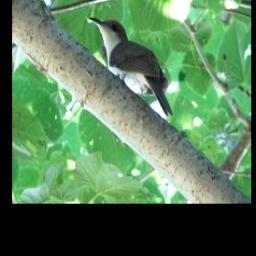Cuckoo: (87, 16, 175, 119)
